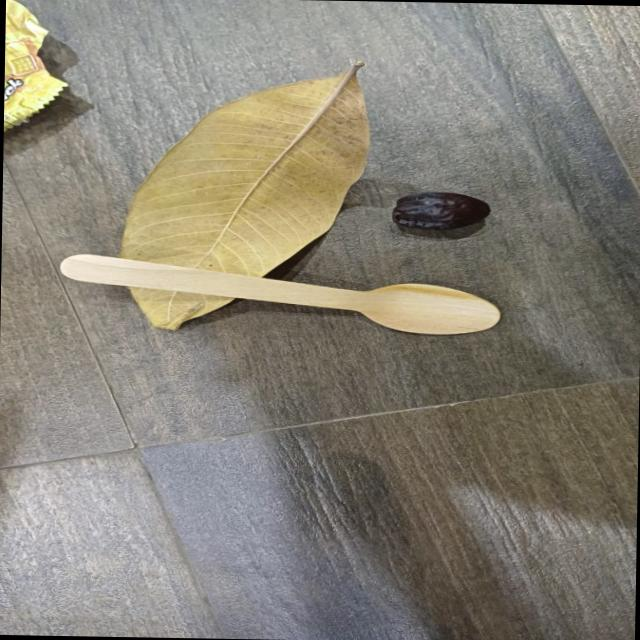Date-Bio: (383, 190, 492, 243)
Leaf-Bio: (123, 53, 380, 340)
Wooden Spoon-Bio: (57, 245, 510, 356)
